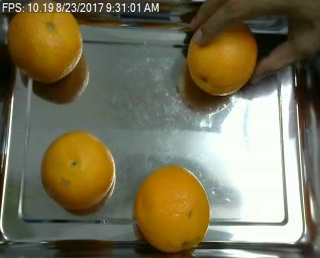Orange: (133, 165, 211, 252), (6, 1, 83, 83), (42, 131, 116, 209)
